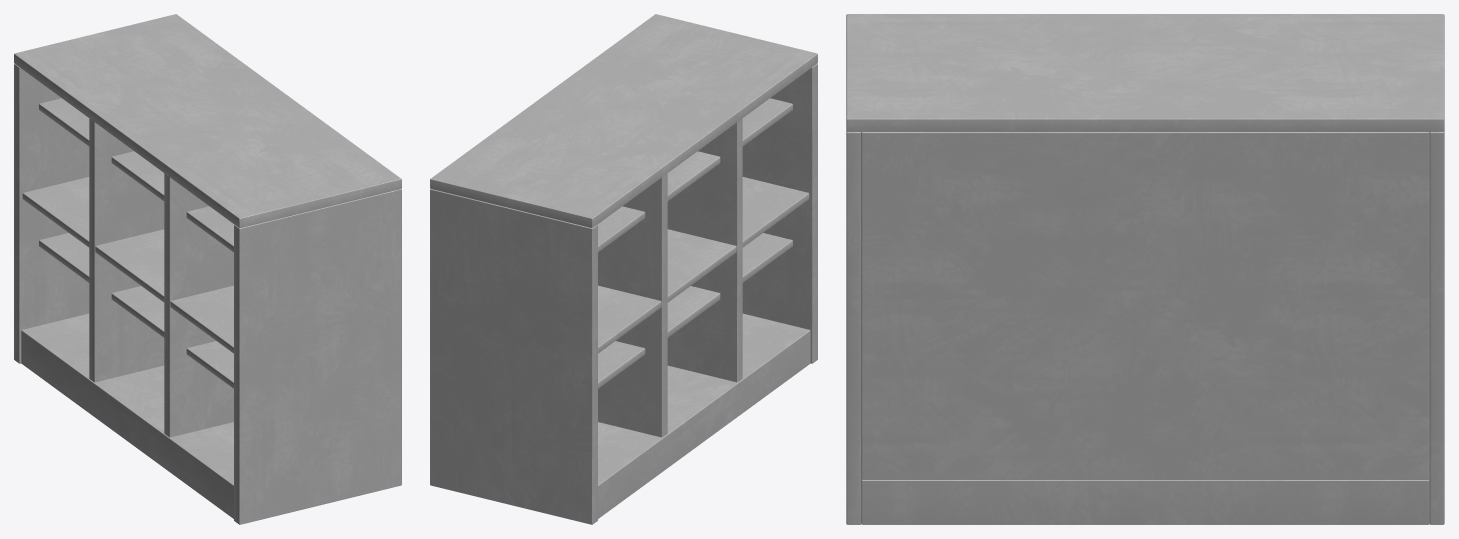
Rendered from SM_RearShelves_02.fbx.
The picture shows the model from 3 angles, left to right: view 1: azimuth 30°, elevation 25°; view 2: azimuth 150°, elevation 25°; view 3: azimuth 270°, elevation 25°; orthographic projection. The views are drawn at different scales.
Visible parts, largest first — view 1: SM_RearShelves_02_LOD0; view 2: SM_RearShelves_02_LOD0; view 3: SM_RearShelves_02_LOD0.
Part boxes in pixels (x1,y1,x2,y2): SM_RearShelves_02_LOD0: (14,14,401,524); SM_RearShelves_02_LOD0: (430,14,817,524); SM_RearShelves_02_LOD0: (846,14,1444,524).
Size of the model in its own units: 50 by 120 by 90.
